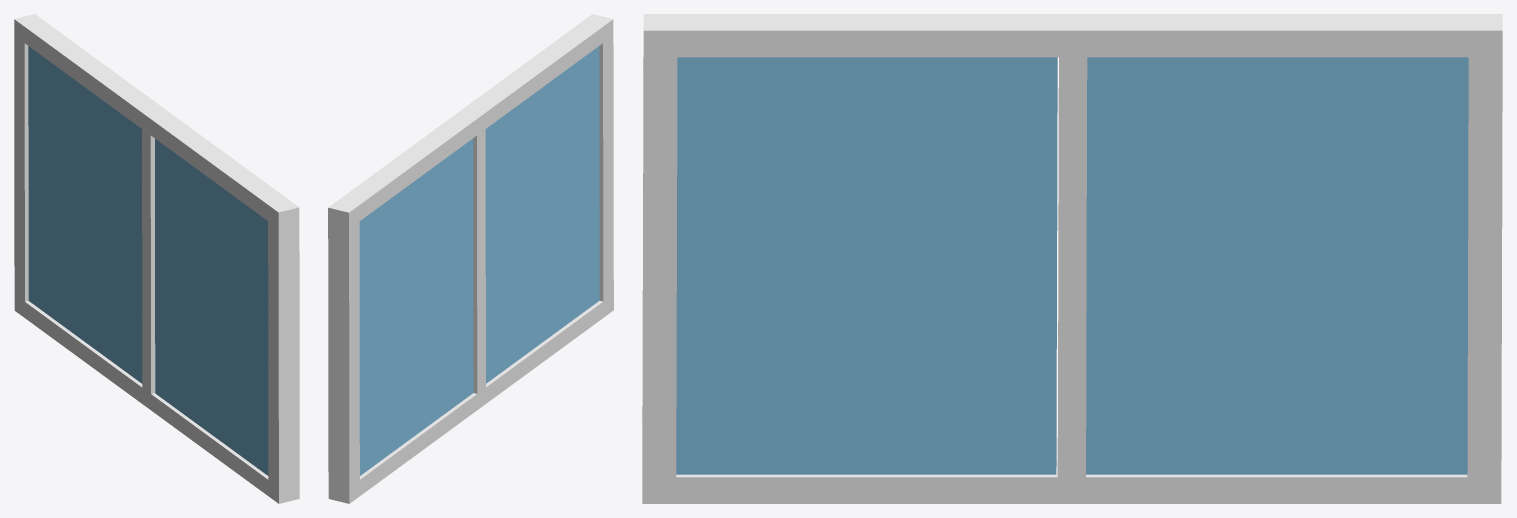
The model's file is Childroom2_Window.fbx.
3 renders of one model, left to right at view 1: azimuth 30°, elevation 25°; view 2: azimuth 150°, elevation 25°; view 3: azimuth 270°, elevation 25°, orthographic. The views are drawn at different scales.
Parts seen in each view (by area): view 1: Childroom2_Window; view 2: Childroom2_Window; view 3: Childroom2_Window.
Part boxes in pixels (x1,y1,x2,y2): Childroom2_Window: (14, 14, 299, 503); Childroom2_Window: (328, 14, 613, 503); Childroom2_Window: (642, 14, 1502, 503).
Size of the model in its own units: 11.55 by 153 by 252.
